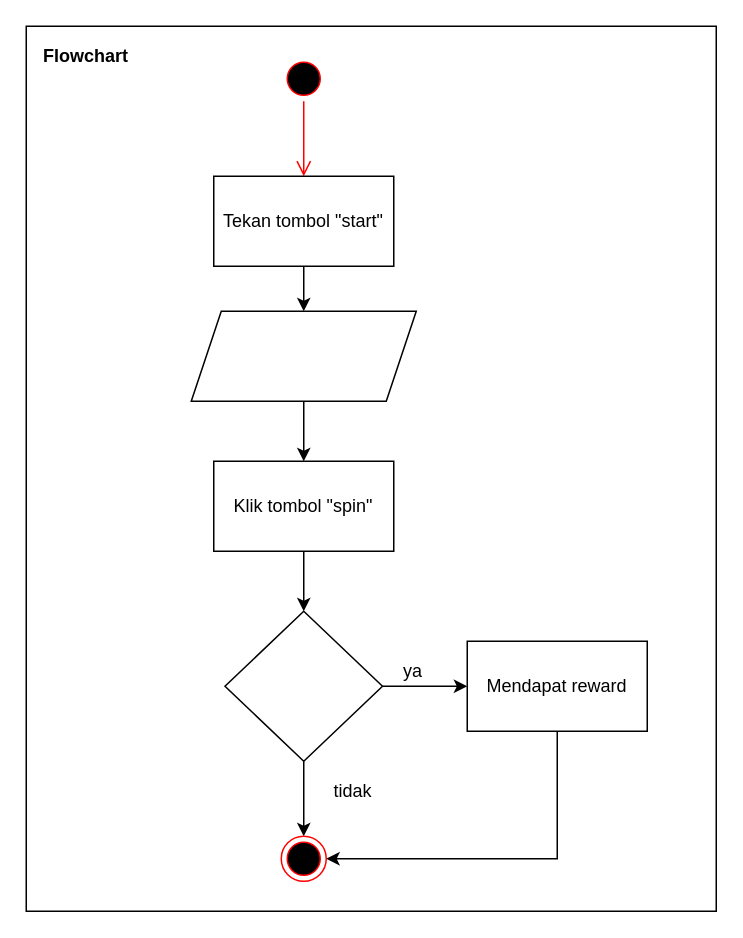
This 743x938 diagram has some shape labels left out. Each missing label, with the centre of its shape:
Hasil 3 kolom bernilai sama: point (303, 685)
Masukkan angka dan gambar: point (303, 355)
